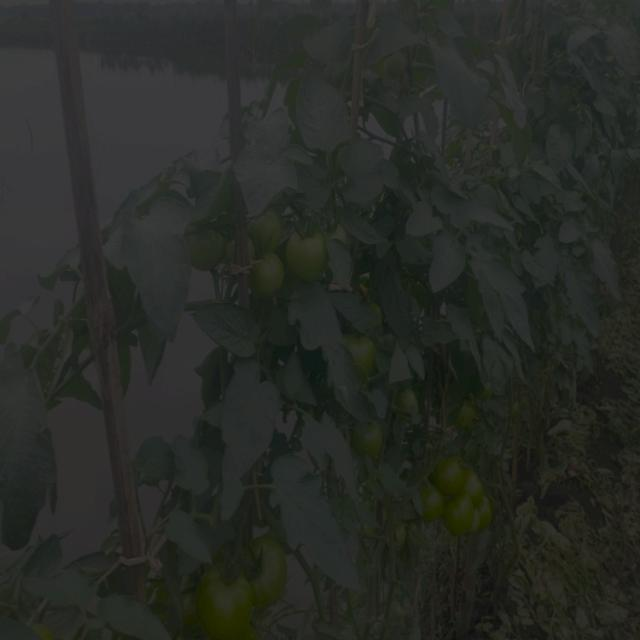tomato: (197, 560, 254, 637), (247, 534, 297, 615), (284, 225, 336, 282), (250, 256, 298, 307), (189, 224, 227, 272), (450, 492, 481, 530), (348, 336, 379, 373), (356, 418, 387, 453), (457, 462, 484, 502), (435, 455, 464, 492), (247, 208, 277, 237), (472, 497, 496, 529), (397, 393, 422, 416), (430, 492, 450, 519), (457, 399, 473, 424)
